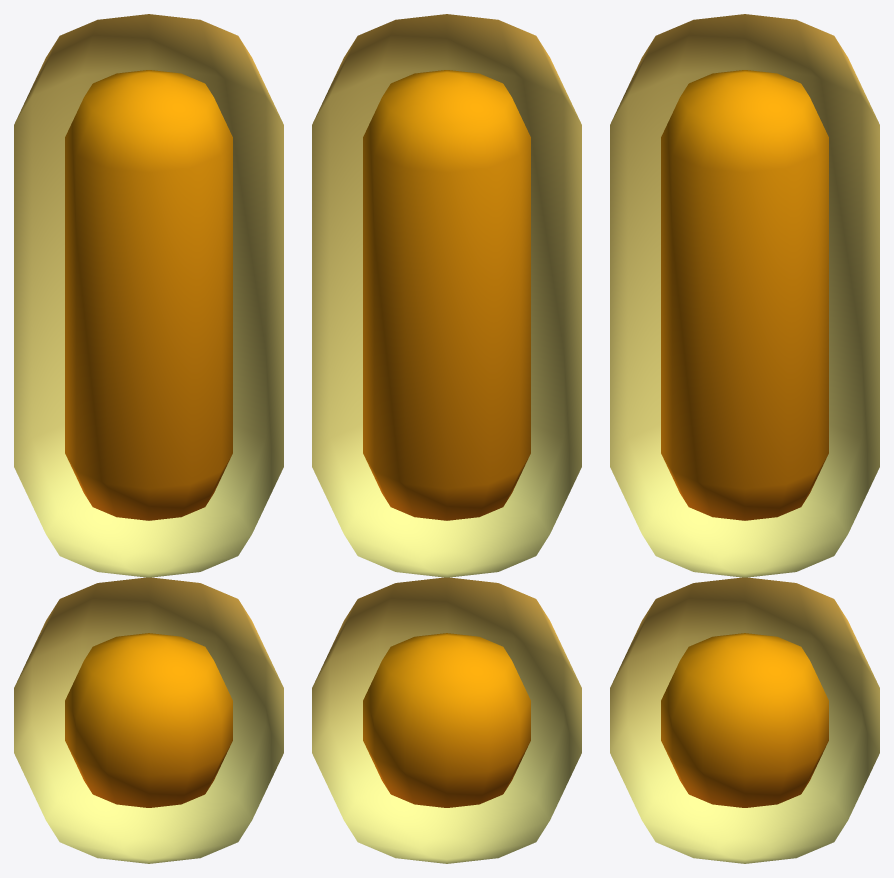
Rendered from quest.glb.
3 views of the same model, side by side, from view 1: azimuth 30°, elevation 25°; view 2: azimuth 150°, elevation 25°; view 3: azimuth 270°, elevation 25° (orthographic).
Visible parts, largest first — view 1: Mesh.001, Mesh; view 2: Mesh.001, Mesh; view 3: Mesh.001, Mesh.
Boxes of the visible parts, x1,y1,x2,y2 form: Mesh.001: (14, 14, 283, 863); Mesh: (65, 70, 232, 807); Mesh.001: (312, 14, 581, 863); Mesh: (363, 70, 530, 807); Mesh.001: (610, 14, 879, 863); Mesh: (661, 70, 828, 807).
Bounding box in the file's own units: 0.142 × 0.475 × 0.142.
1 material, 1 textured.
